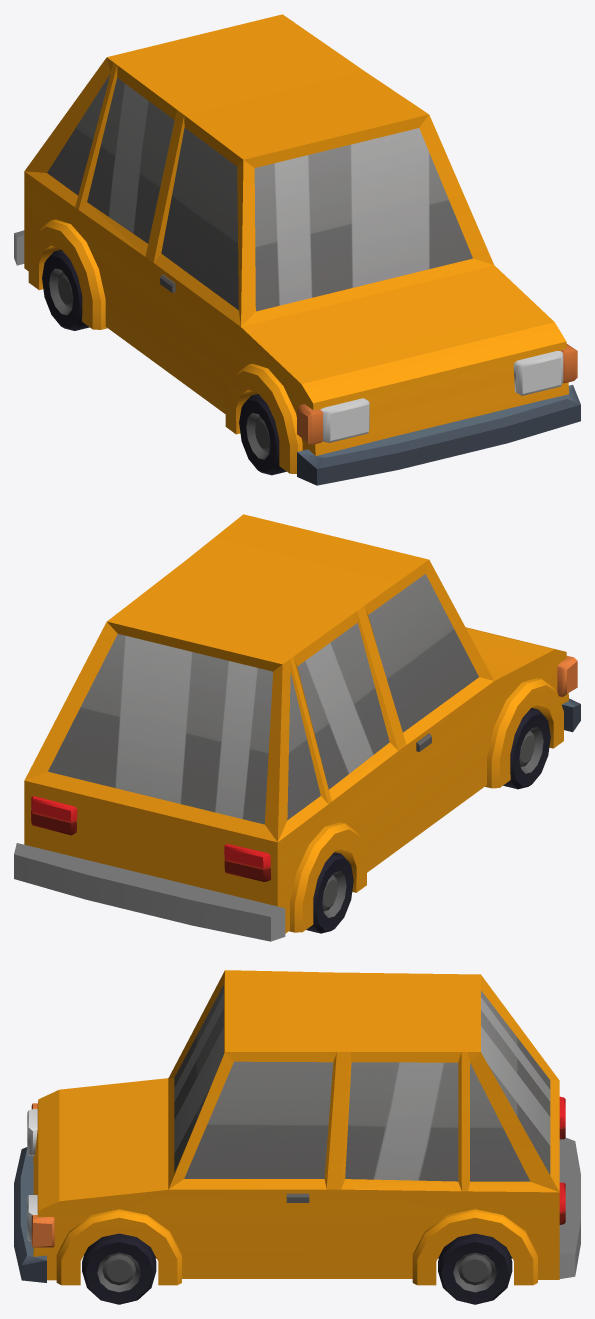
The model's file is Car_1_21.fbx.
3 views of the same model, one above another, from view 1: azimuth 30°, elevation 25°; view 2: azimuth 150°, elevation 25°; view 3: azimuth 270°, elevation 25° (orthographic). The views are drawn at different scales.
Parts seen in each view (by area): view 1: Car_1_21, Wheel_Br, Wheel_Fr; view 2: Car_1_21, Wheel_Fr, Wheel_Br; view 3: Car_1_21, Wheel_Bl, Wheel_Fl.
Part boxes in pixels (left/top/right/bottom): Car_1_21: left=14, top=14, right=580, bottom=485; Wheel_Br: left=42, top=249, right=89, bottom=330; Wheel_Fr: left=239, top=394, right=286, bottom=475; Car_1_21: left=14, top=514, right=580, bottom=941; Wheel_Fr: left=503, top=708, right=550, bottom=789; Wheel_Br: left=306, top=852, right=353, bottom=933; Car_1_21: left=14, top=970, right=580, bottom=1285; Wheel_Bl: left=438, top=1233, right=512, bottom=1304; Wheel_Fl: left=82, top=1233, right=156, bottom=1304.
Size of the model in its own units: 105 by 94.33 by 206.
